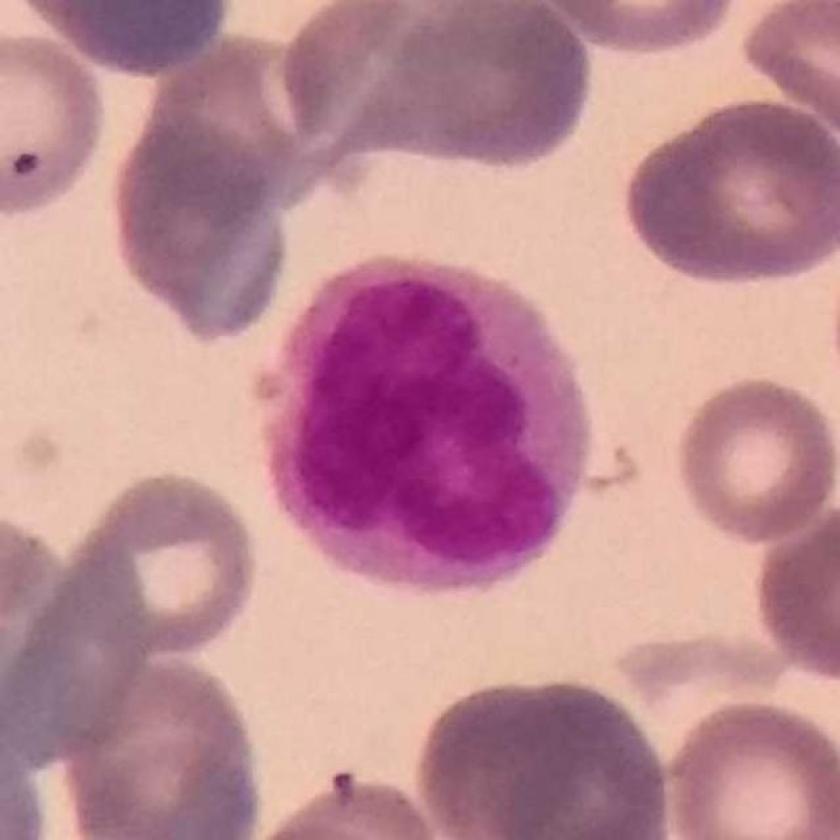monocyte: (242, 249, 610, 603)
